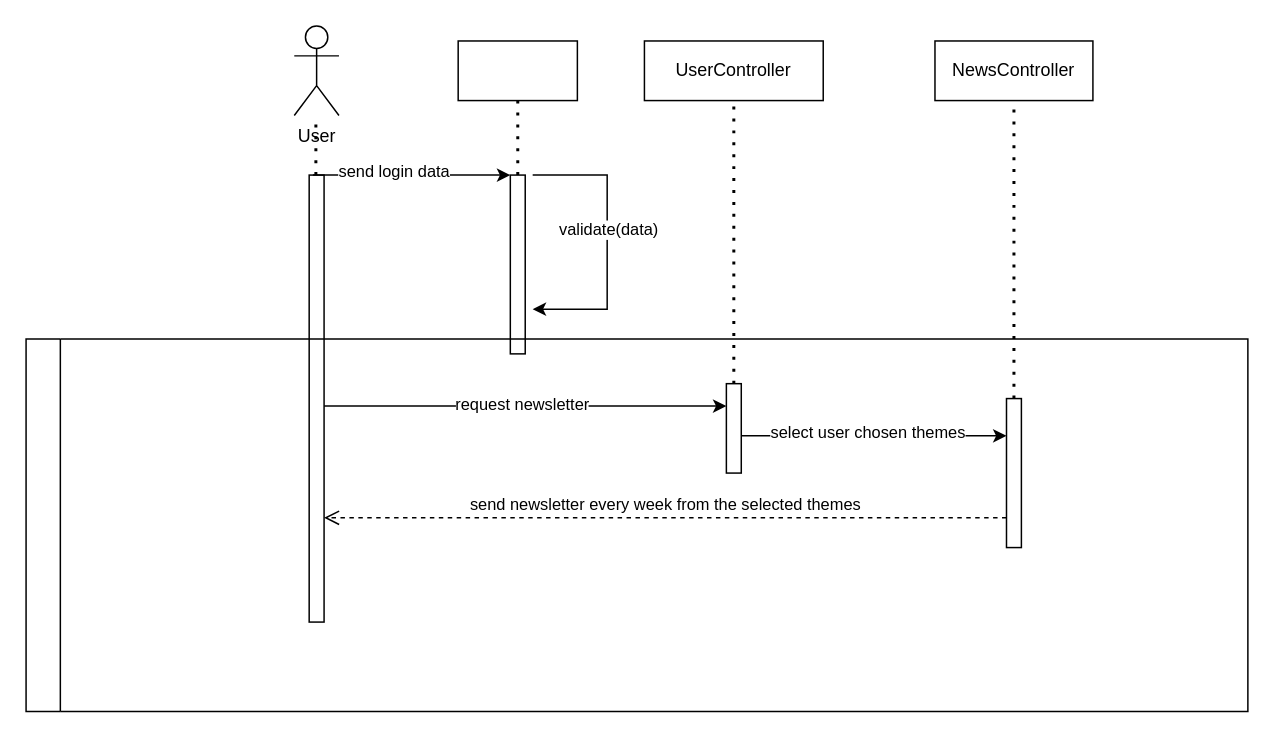
The diagram is 1274 pixels wide and 738 high, and some of its shapes have lost their labels. Each missing label, with the centre of its shape:
"data is valid" belongs at [636,524].
"Login" belongs at [517,70].
